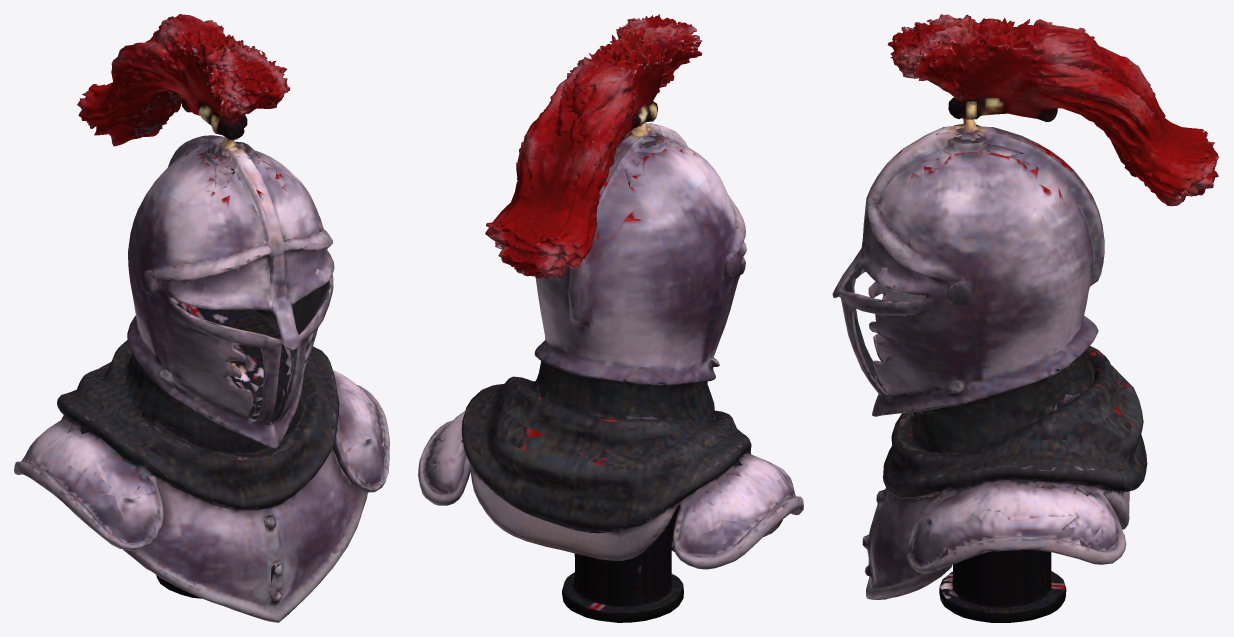
Rendered from helmet.glb.
3 views of the same model, side by side, from view 1: azimuth 30°, elevation 25°; view 2: azimuth 150°, elevation 25°; view 3: azimuth 270°, elevation 25° (orthographic). The views are drawn at different scales.
Bounding box in the file's own units: 0.642 × 0.9947 × 0.603.
Materials: 1 (1 with a texture image).
